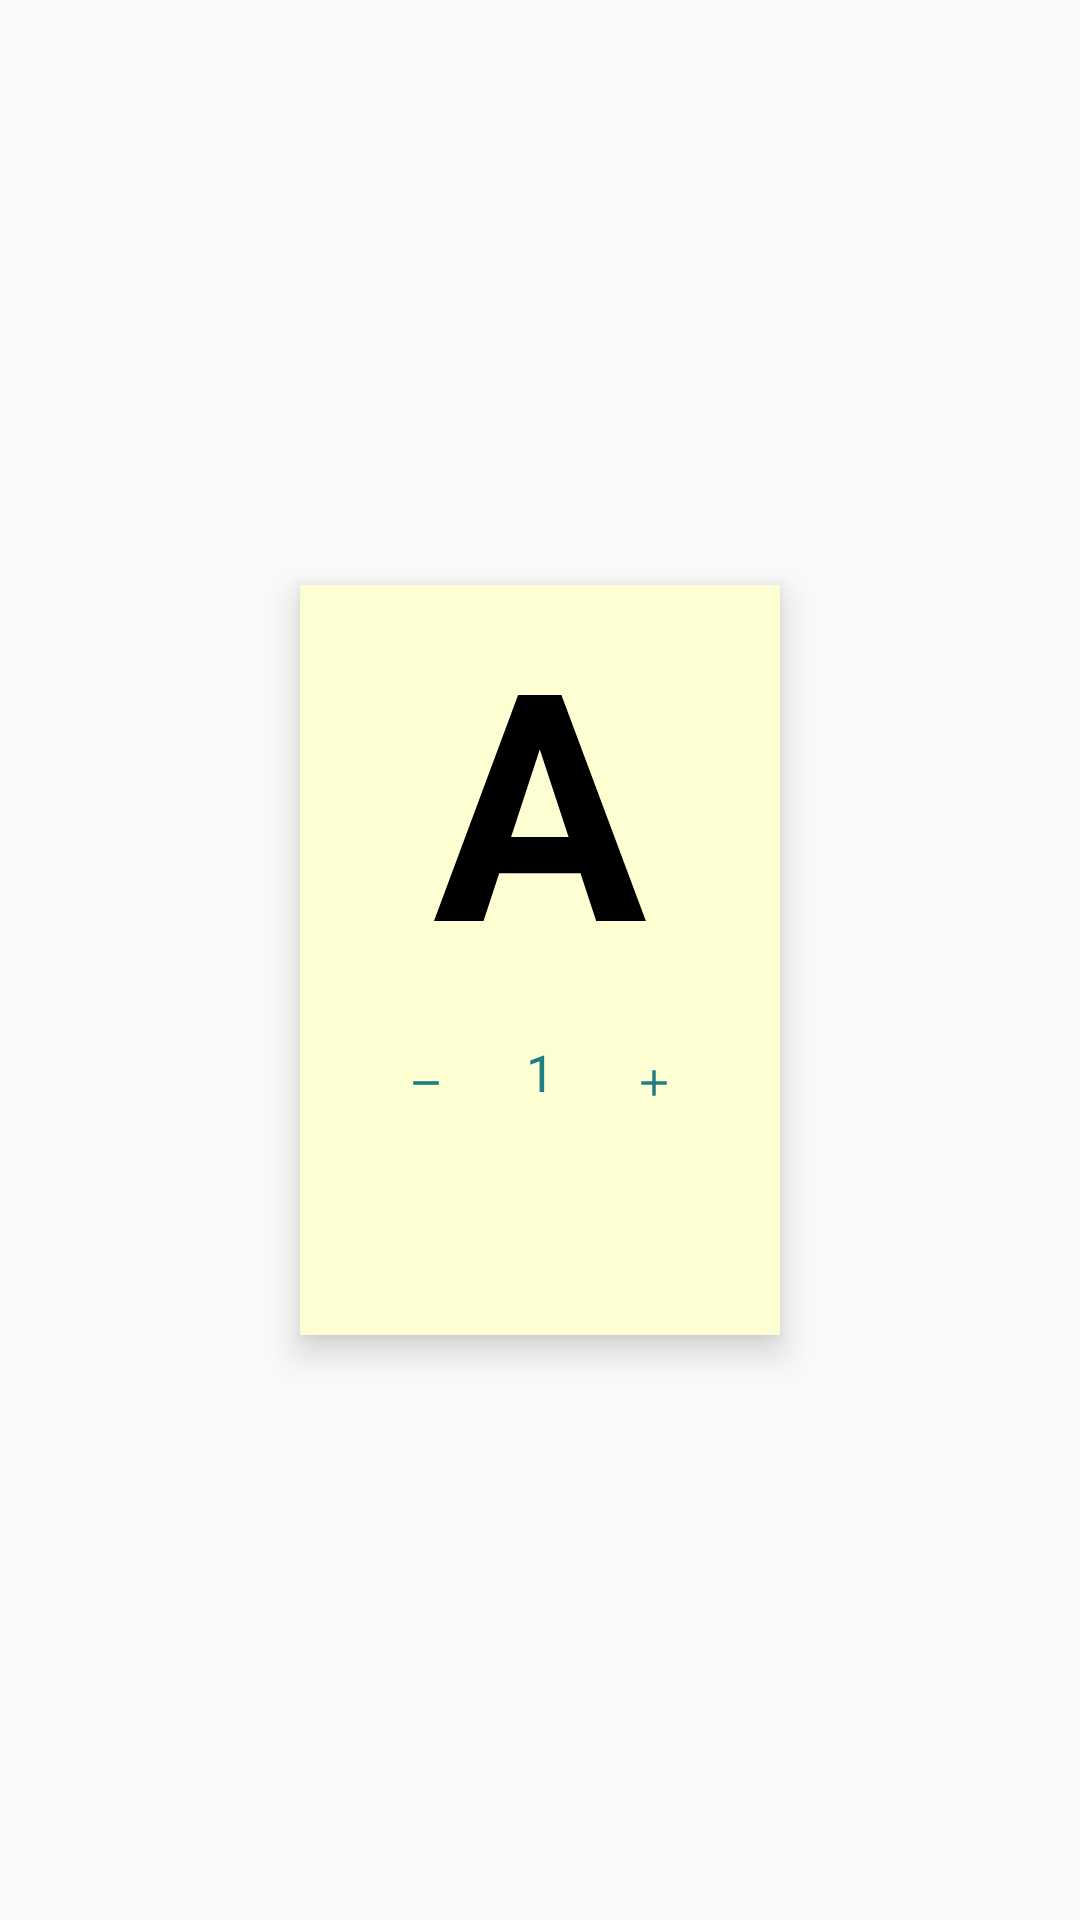

Locate icon controls on the screen. Image size 1080 x 1920, boxes as (x1, y1, x2, y2).
add: (641, 1070, 667, 1096)
